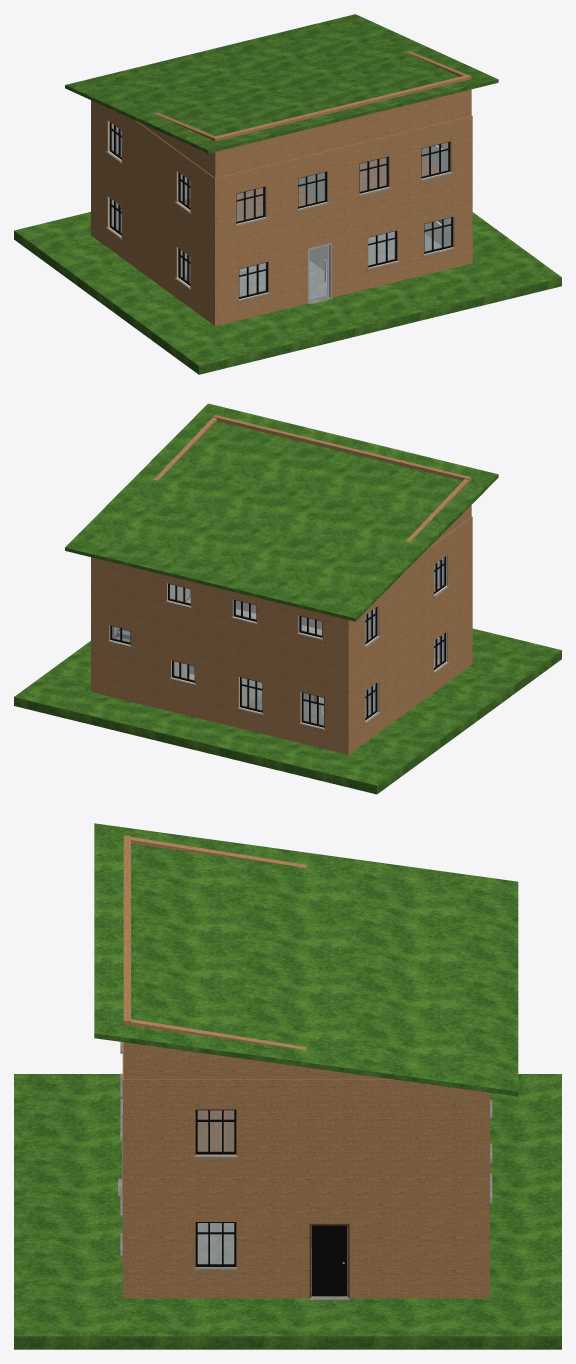
The model's file is b_green_roof_house.gltf.
3 renders of one model, top to bottom at view 1: azimuth 30°, elevation 25°; view 2: azimuth 150°, elevation 25°; view 3: azimuth 270°, elevation 25°, orthographic. The views are drawn at different scales.
Parts seen in each view (by area): view 1: S_green_roof_house, D_green_roof_house_F1_S3_Door0; view 2: S_green_roof_house; view 3: S_green_roof_house, D_green_roof_house_F1_E1_Door0.
Part boxes in pixels (<box>): S_green_roof_house: <box>14,14,561,374</box>; D_green_roof_house_F1_S3_Door0: <box>309,245,328,301</box>; S_green_roof_house: <box>14,403,561,794</box>; S_green_roof_house: <box>14,823,561,1349</box>; D_green_roof_house_F1_E1_Door0: <box>311,1225,347,1296</box>.
Size of the model in its own units: 17 by 8.76 by 15.
Materials: 18 (10 with a texture image).
